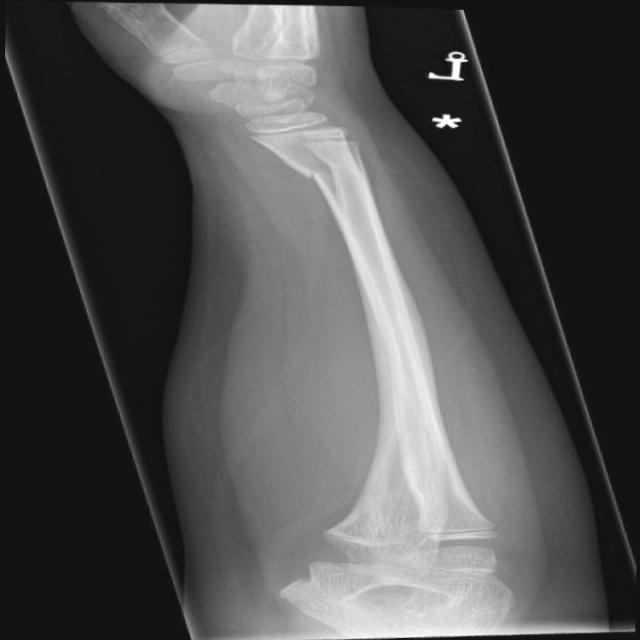Greenstick: (248, 146, 394, 195)
